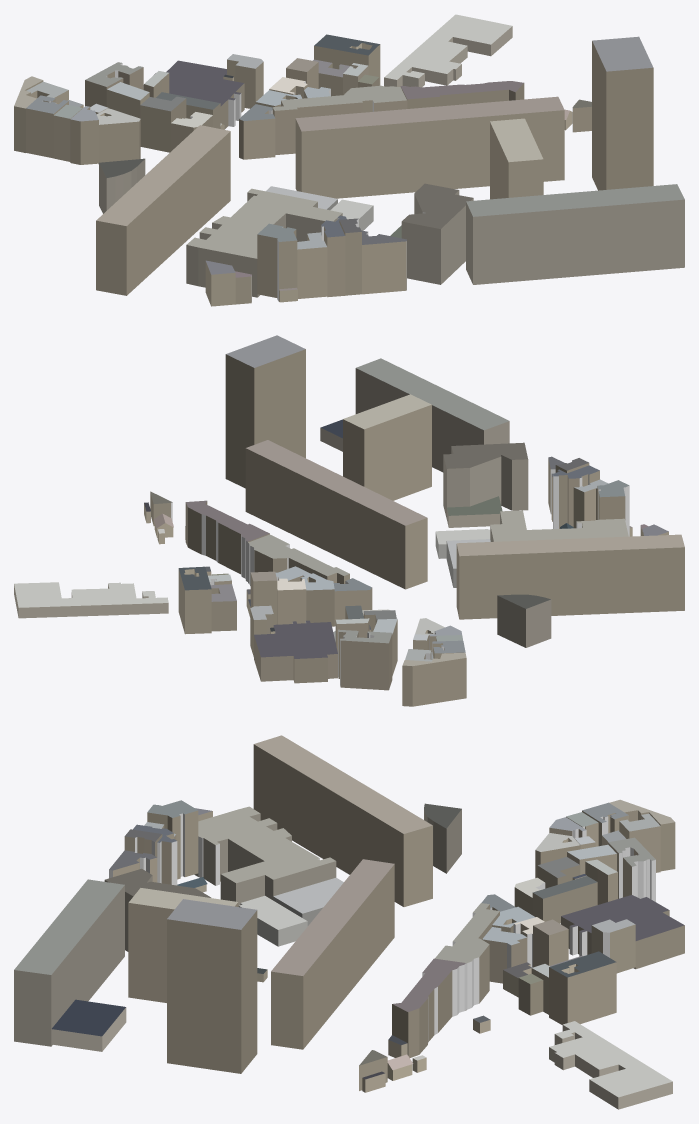
3 views of the same model, one above another, from view 1: azimuth 30°, elevation 25°; view 2: azimuth 150°, elevation 25°; view 3: azimuth 270°, elevation 25° (orthographic). The views are drawn at different scales.
Parts seen in each view (by area): view 1: tuile; view 2: tuile; view 3: tuile.
Boxes of the visible parts, x1,y1,x2,y2 form: tuile: (14,14,684,306); tuile: (14,335,684,706); tuile: (14,735,684,1109).
Bounding box in the file's own units: 288 × 69.24 × 276.
